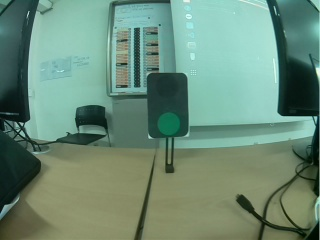green_light: (148, 73, 182, 136)
